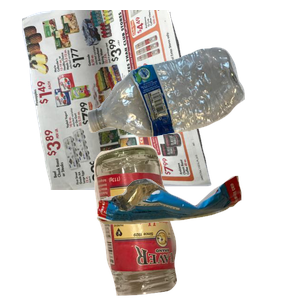glass: (91, 142, 260, 300)
paper: (19, 10, 223, 190)
plastic: (85, 45, 300, 175)
trash: (94, 173, 300, 300)
